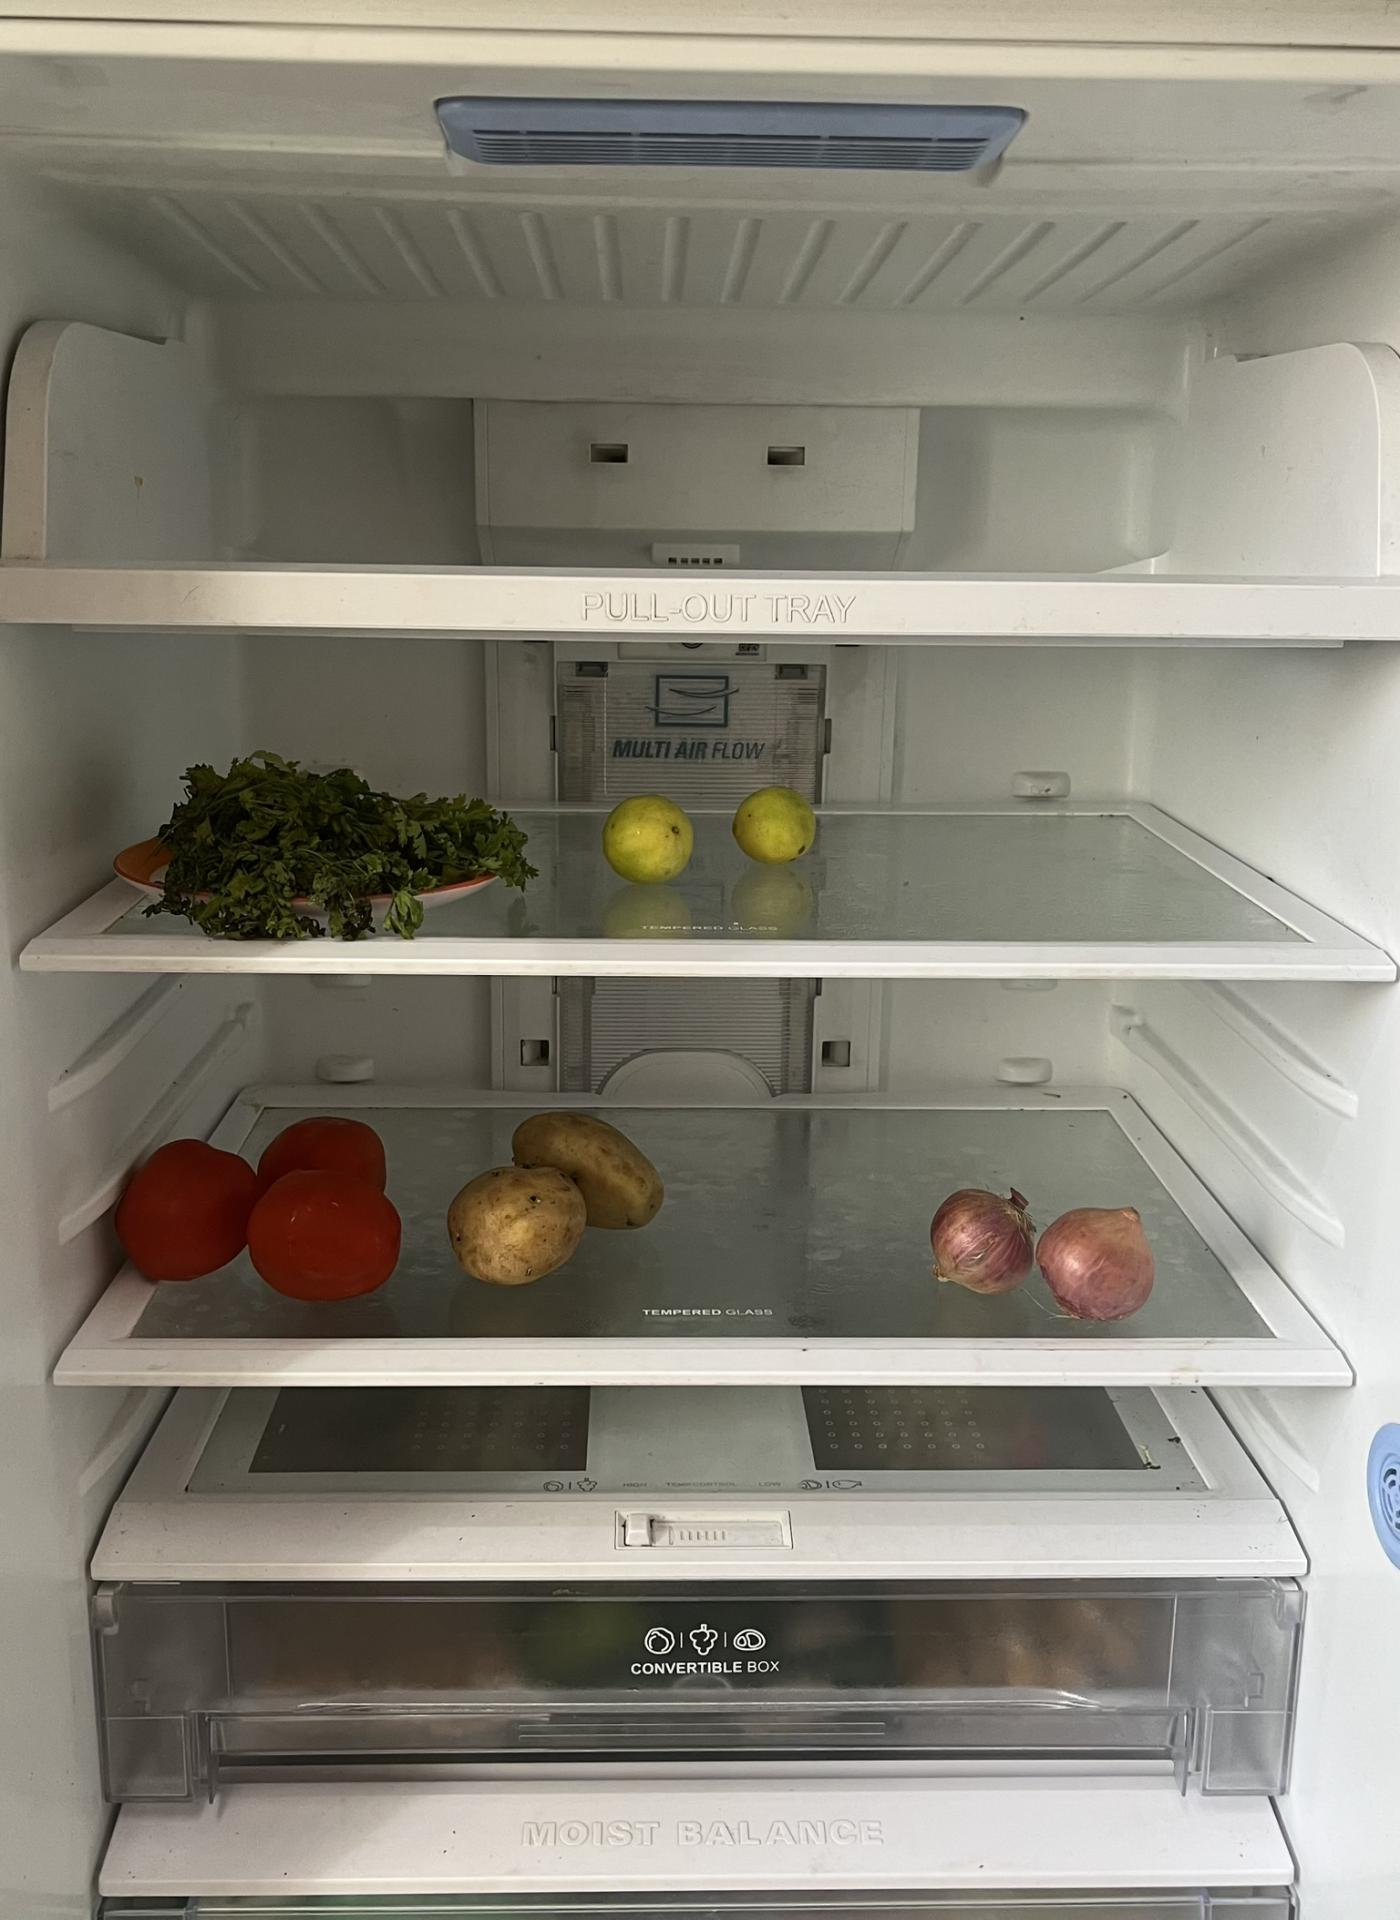coriander: (157, 751, 535, 930)
lemon: (611, 799, 816, 884)
onion: (936, 1173, 1155, 1312)
potato: (438, 1103, 672, 1289)
tomato: (115, 1099, 404, 1297)
